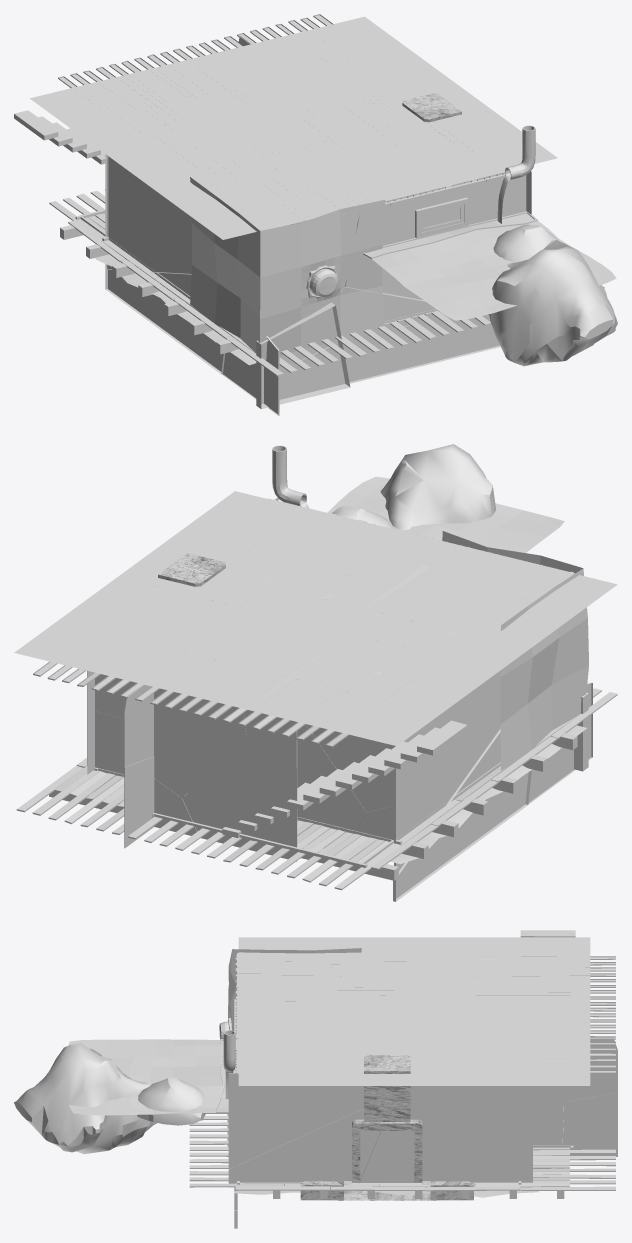
Rendered from Room_Basement4.fbx.
The picture shows the model from 3 angles, top to bottom: view 1: azimuth 30°, elevation 25°; view 2: azimuth 150°, elevation 25°; view 3: azimuth 270°, elevation 25°; orthographic projection. The views are drawn at different scales.
Visible parts, largest first — view 1: Plane.001, brokenWall, Plane_cell.001, Plane_cell.003, Icosphere, Grass, Planks, Roof, Planks.001, FloorBalks, Stone1, FirePlace (+6 smaller); view 2: Plane.001, Plane.001_cell.001, Plane_cell.003, Planks, brokenWall, Plane.001_cell, Icosphere, Grass, Planks.001, Roof, Plane.001_cell.002, FloorBalks (+8 smaller); view 3: Plane.001, Plane_cell.007, Icosphere, Planks, Grass, FirePlace, Plane.001_cell.002, Roof, Stone1, brokenWall, Plane_cell.001, DirtGround (+3 smaller).
Part boxes in pixels (bbox=[...]): Plane.001: bbox=[30, 16, 557, 239]; brokenWall: bbox=[190, 177, 385, 359]; Plane_cell.001: bbox=[256, 174, 526, 409]; Plane_cell.003: bbox=[105, 154, 279, 415]; Icosphere: bbox=[489, 240, 617, 366]; Grass: bbox=[372, 221, 616, 320]; Planks: bbox=[49, 189, 490, 376]; Roof: bbox=[58, 14, 503, 224]; Planks.001: bbox=[14, 110, 107, 164]; FloorBalks: bbox=[60, 219, 238, 354]; Stone1: bbox=[493, 224, 558, 262]; FirePlace: bbox=[402, 93, 461, 122]; Plane.001: bbox=[14, 491, 617, 746]; Plane.001_cell.001: bbox=[154, 688, 297, 861]; Plane_cell.003: bbox=[393, 670, 592, 901]; Planks: bbox=[16, 688, 617, 890]; brokenWall: bbox=[442, 531, 588, 770]; Plane.001_cell: bbox=[95, 674, 393, 840]; Icosphere: bbox=[380, 444, 495, 530]; Grass: bbox=[327, 476, 564, 552]; Planks.001: bbox=[222, 720, 467, 838]; Roof: bbox=[33, 502, 556, 747]; Plane.001_cell.002: bbox=[124, 684, 154, 848]; FloorBalks: bbox=[49, 733, 577, 880]; Plane.001: bbox=[238, 937, 590, 1085]; Plane_cell.007: bbox=[228, 1073, 532, 1187]; Icosphere: bbox=[14, 1043, 157, 1154]; Planks: bbox=[189, 1106, 615, 1191]; Grass: bbox=[68, 1039, 222, 1115]; FirePlace: bbox=[300, 1055, 473, 1200]; Plane.001_cell.002: bbox=[533, 1037, 617, 1156]; Roof: bbox=[235, 953, 615, 1073]; Stone1: bbox=[137, 1078, 205, 1125]; brokenWall: bbox=[219, 948, 361, 1039]; Plane_cell.001: bbox=[227, 999, 237, 1228]; DirtGround: bbox=[234, 1188, 538, 1197].
Bounding box in the file's own units: 696 × 398 × 1116.
